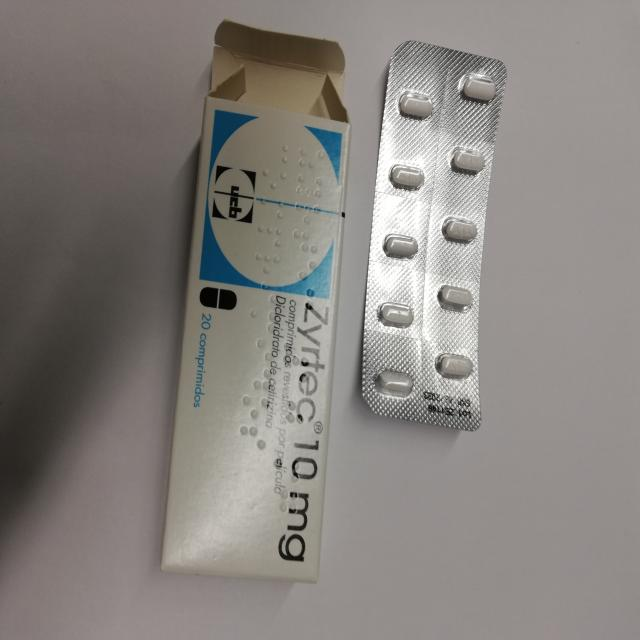Pill: (367, 356, 418, 411), (374, 222, 425, 272), (426, 340, 476, 390), (453, 59, 501, 111), (432, 207, 487, 252), (389, 78, 437, 128), (371, 291, 421, 339), (444, 142, 500, 182), (431, 276, 479, 322), (383, 154, 428, 198)
